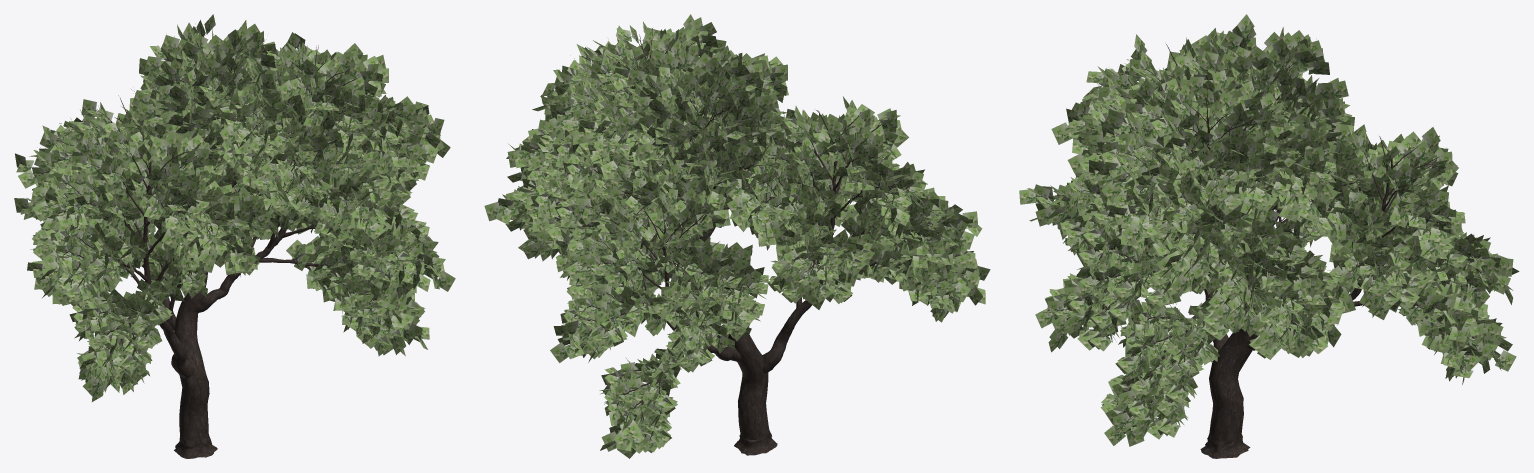
The model's file is FBX_WE17_QuercusAgrifolia_2.fbx.
3 views of the same model, side by side, from view 1: azimuth 30°, elevation 25°; view 2: azimuth 150°, elevation 25°; view 3: azimuth 270°, elevation 25° (orthographic). The views are drawn at different scales.
Parts seen in each view (by area): view 1: Leaf01_2, Bark01_2; view 2: Leaf01_2, Bark01_2; view 3: Leaf01_2, Bark01_2.
Boxes of the visible parts, x1,y1,x2,y2 form: Leaf01_2: [14, 14, 455, 401]; Bark01_2: [34, 27, 426, 458]; Leaf01_2: [484, 14, 990, 458]; Bark01_2: [506, 28, 963, 455]; Leaf01_2: [1019, 14, 1519, 446]; Bark01_2: [1042, 37, 1504, 458].
Bounding box in the file's own units: 1485 × 1309 × 1359.
